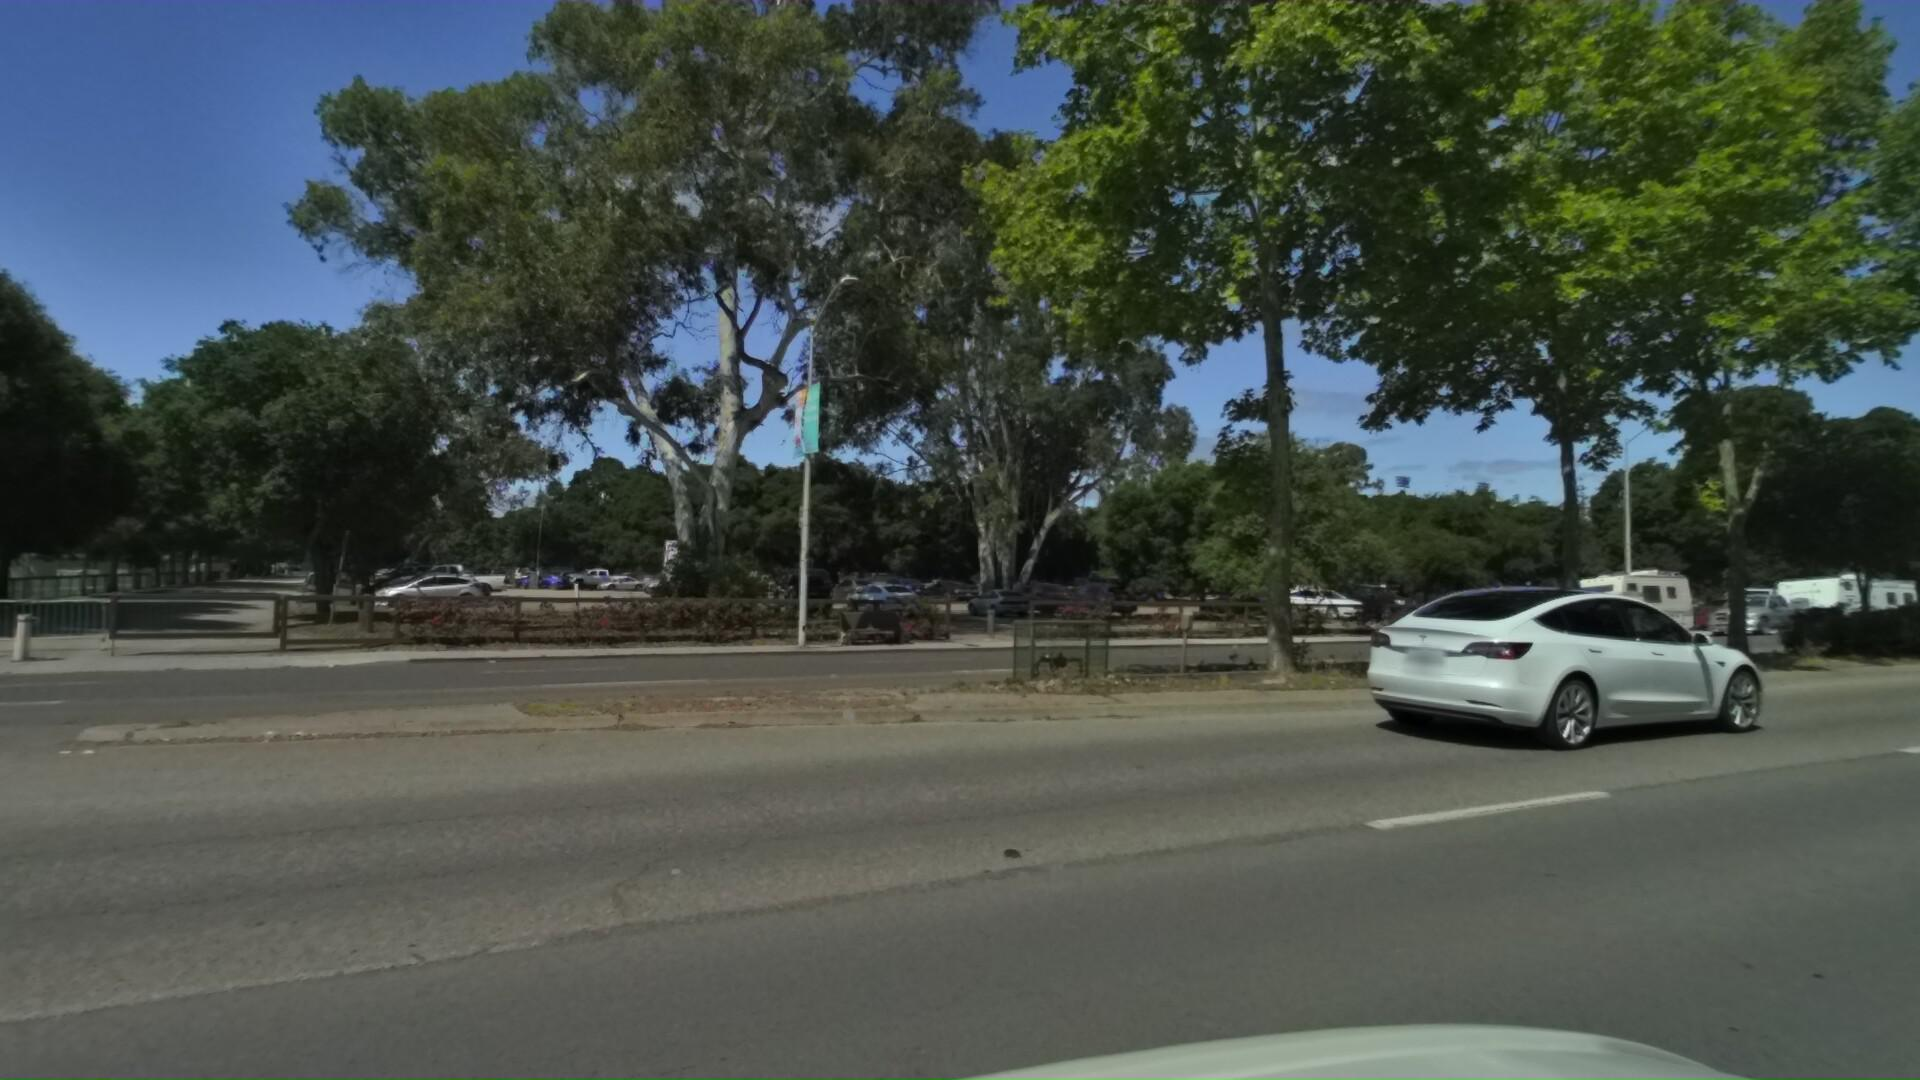car: (1346, 576, 1799, 771), (1683, 583, 1803, 633)
other_vehicle: (1524, 556, 1685, 646), (1743, 560, 1907, 642)
